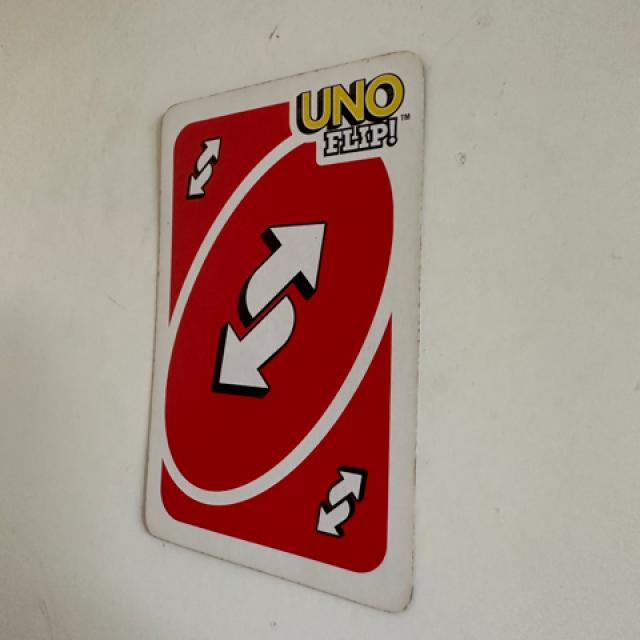lredrevers-20: (173, 118, 235, 222)
